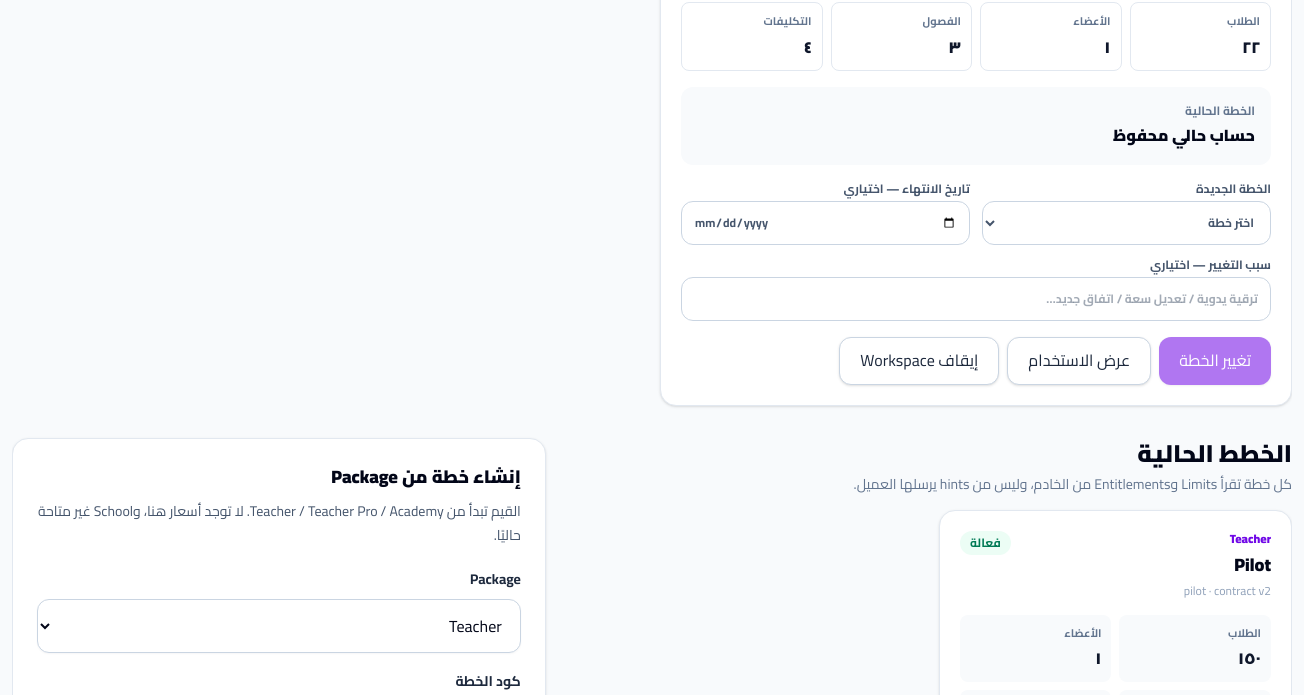
Test case: PlatformAdminPage commercial control plane › can suspend and reactivate a workspace independently from user status
This screenshot has width=1304, height=695.
(page scrolled)
Click the button "إيقاف Workspace". click: (919, 361)
box: [839,337,999,385]
(page scrolled)
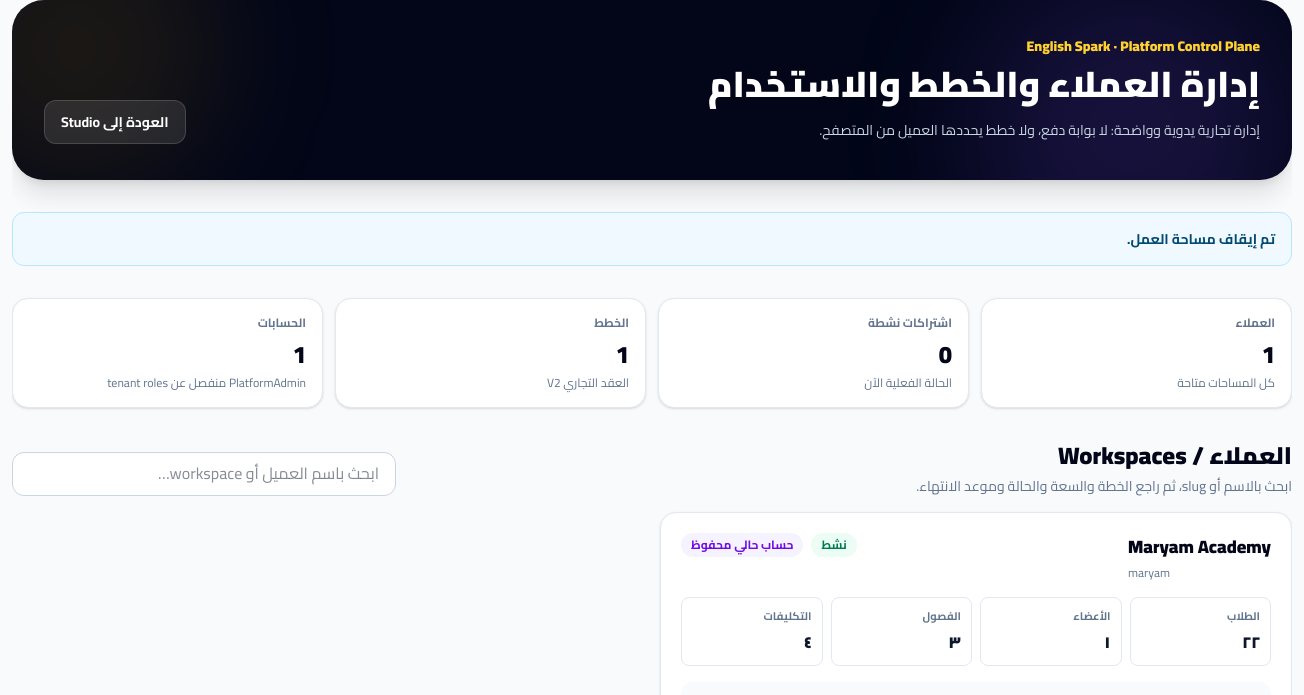
Result: the text "تم إيقاف مساحة العمل." is shown at [12,212,1292,266]
